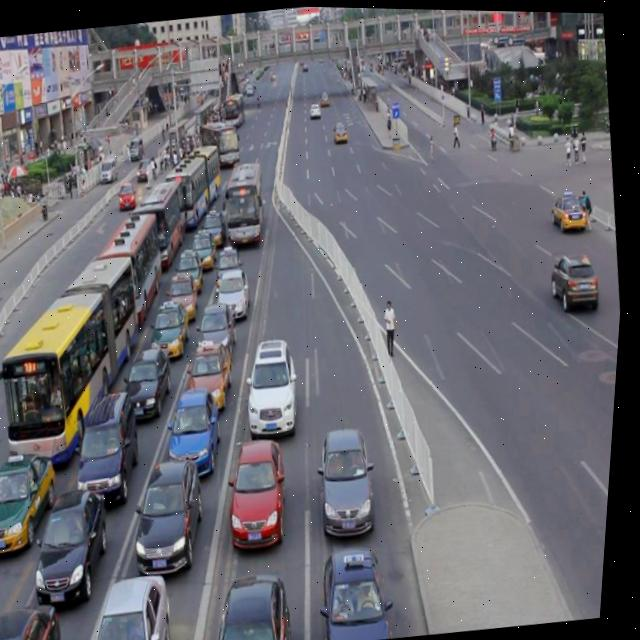car: (31, 478, 125, 601), (132, 448, 219, 571), (72, 379, 153, 501), (318, 537, 408, 640), (314, 416, 388, 530), (84, 557, 185, 640), (227, 428, 299, 543), (0, 440, 72, 552), (210, 559, 303, 640), (242, 329, 311, 436), (165, 380, 231, 473), (123, 336, 181, 417), (186, 328, 243, 409), (0, 593, 77, 640), (548, 248, 604, 308), (196, 294, 244, 359), (149, 291, 197, 354), (164, 262, 206, 318), (215, 261, 257, 314), (549, 185, 590, 230), (214, 234, 249, 286), (176, 239, 209, 287), (190, 221, 222, 266), (200, 201, 231, 240), (332, 118, 350, 141)
van: (0, 241, 163, 469), (90, 202, 174, 323), (125, 168, 196, 266), (162, 134, 230, 225), (218, 158, 272, 244), (198, 117, 244, 168)
